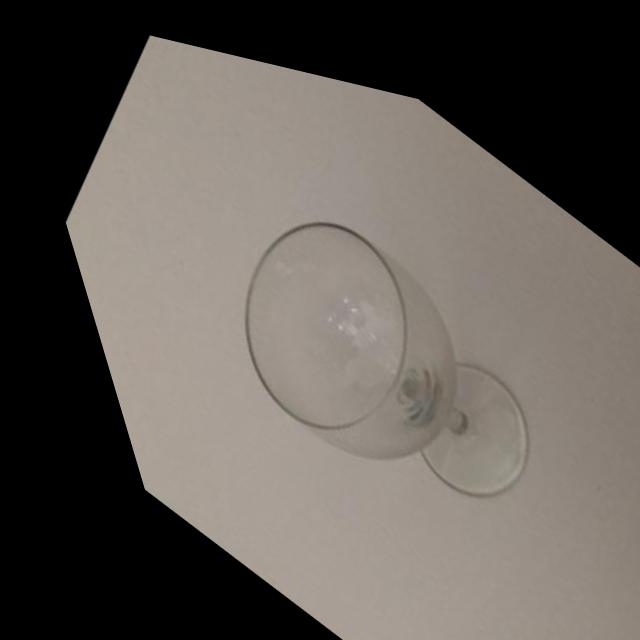glass: (49, 47, 640, 640)
